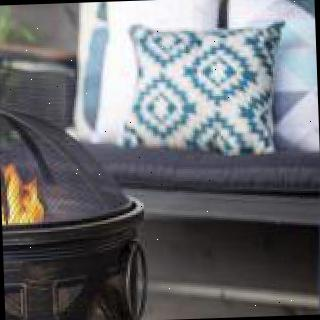fire: (0, 153, 50, 239)
